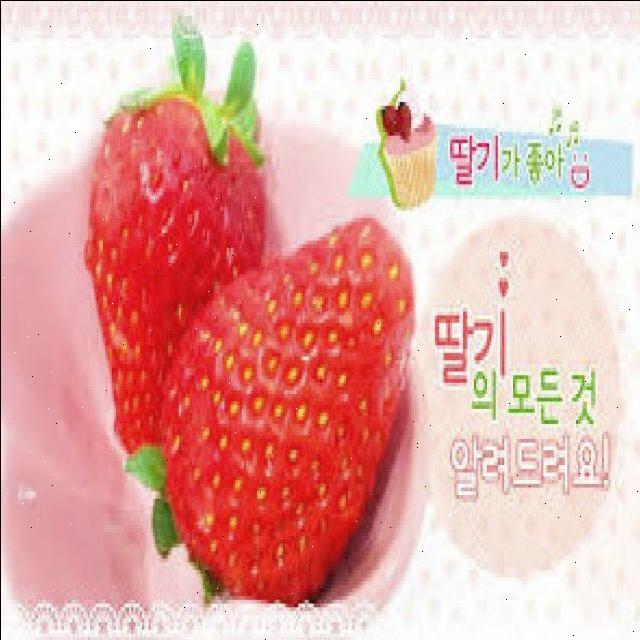strawberry: (156, 212, 412, 606), (83, 94, 264, 457)
